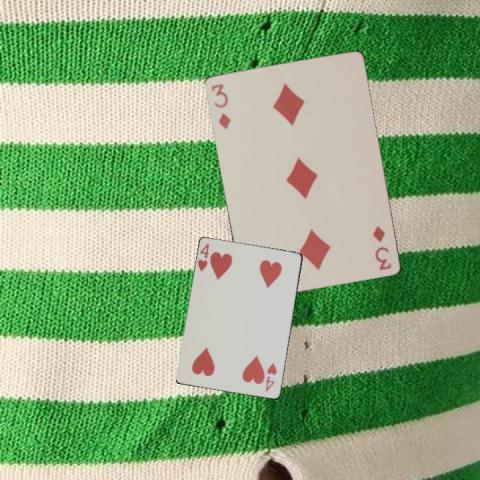3d: (369, 223, 393, 271), (208, 81, 231, 130)
4h: (195, 241, 211, 272), (263, 360, 278, 393)
